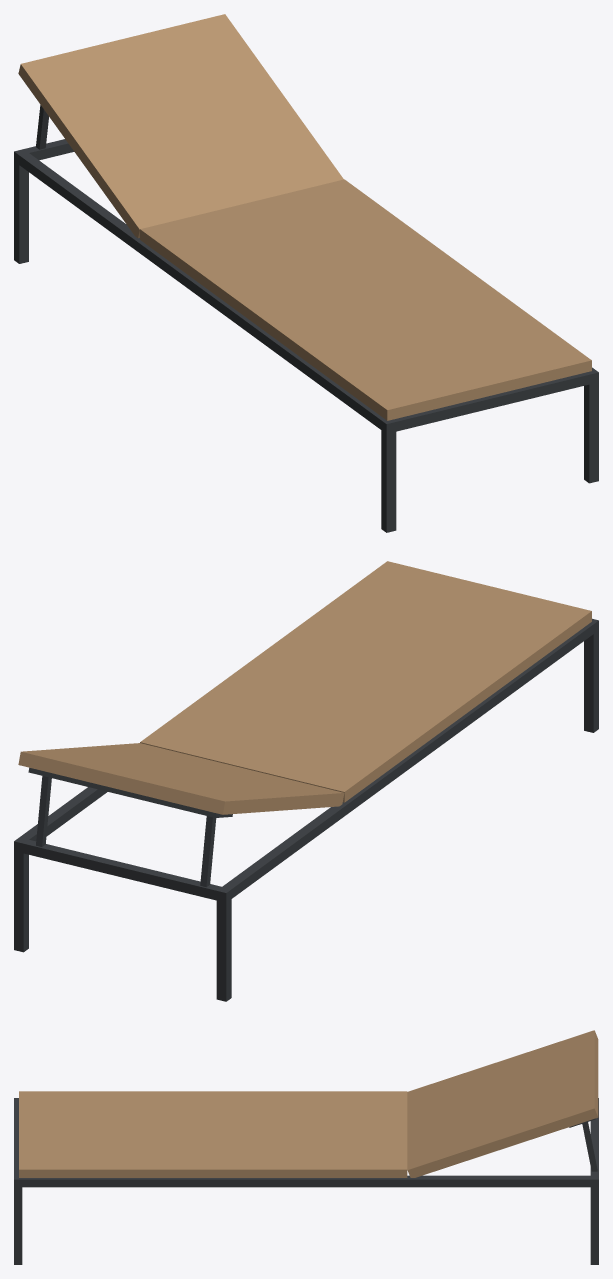
File: Lounger_01.fbx
3 views of the same model, one above another, from view 1: azimuth 30°, elevation 25°; view 2: azimuth 150°, elevation 25°; view 3: azimuth 270°, elevation 25° (orthographic). The views are drawn at different scales.
Parts seen in each view (by area): view 1: Lounger_01; view 2: Lounger_01; view 3: Lounger_01.
Boxes of the visible parts, bbox=[...] form: Lounger_01: bbox=[14, 14, 598, 532]; Lounger_01: bbox=[14, 561, 598, 1001]; Lounger_01: bbox=[14, 1030, 598, 1264].
Size of the model in its own units: 68.11 by 60.48 by 207.
